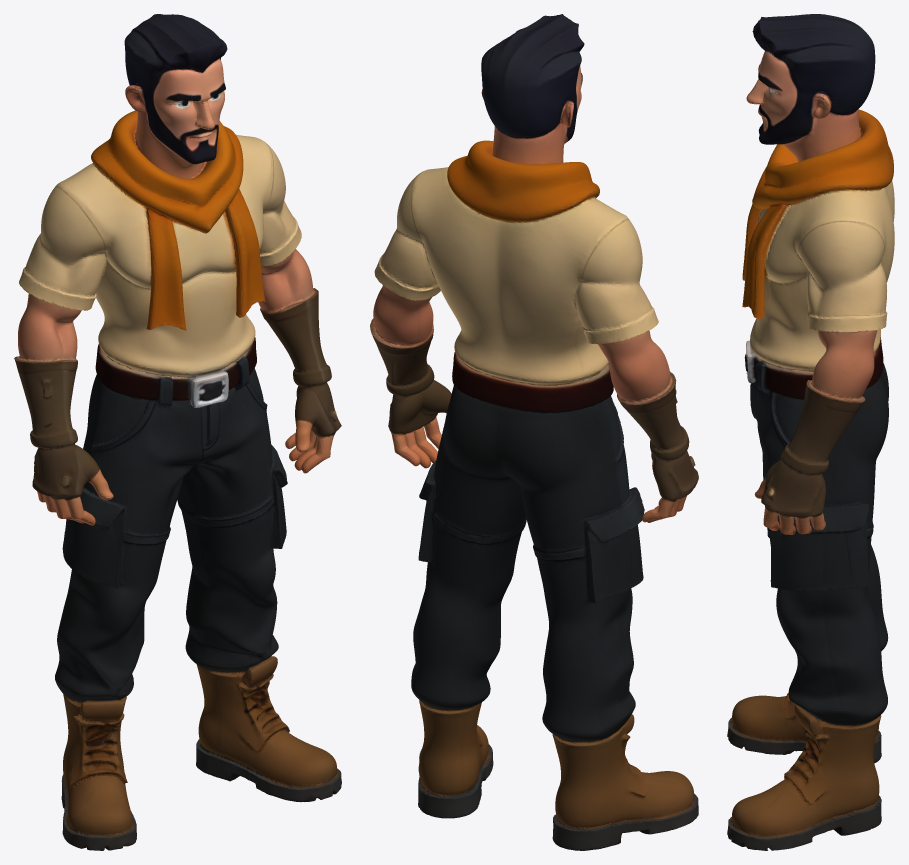
File: base_basic_pbr.fbx
3 views of the same model, side by side, from view 1: azimuth 30°, elevation 25°; view 2: azimuth 150°, elevation 25°; view 3: azimuth 270°, elevation 25° (orthographic).
Visible parts, largest first — view 1: model; view 2: model; view 3: model.
Part boxes in pixels (<box>): model: <box>14,14,341,850</box>; model: <box>370,14,698,850</box>; model: <box>727,14,894,850</box>.
Size of the model in its own units: 68.79 by 172 by 33.8.
1 material, 1 textured.
